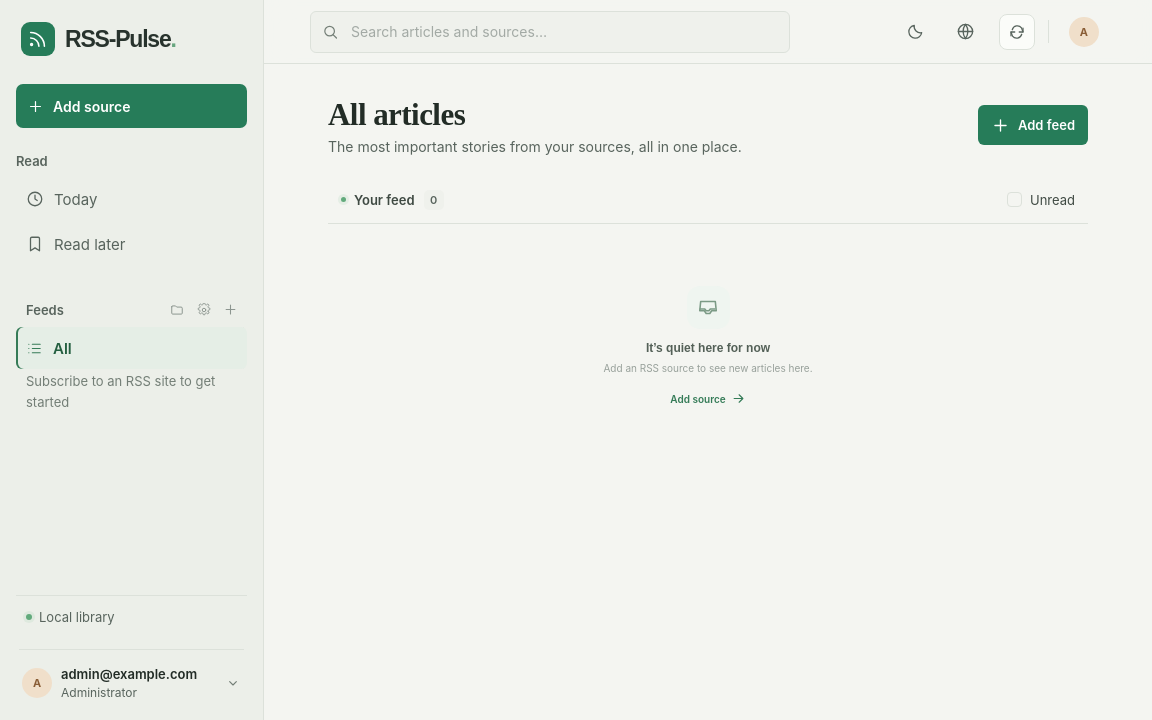
Scenario: session-aware reader shell › shows the administration destination to Administrators only
Click the heading "A admin@example.com Administrator". click: (132, 683)
box: [19,660,244,706]
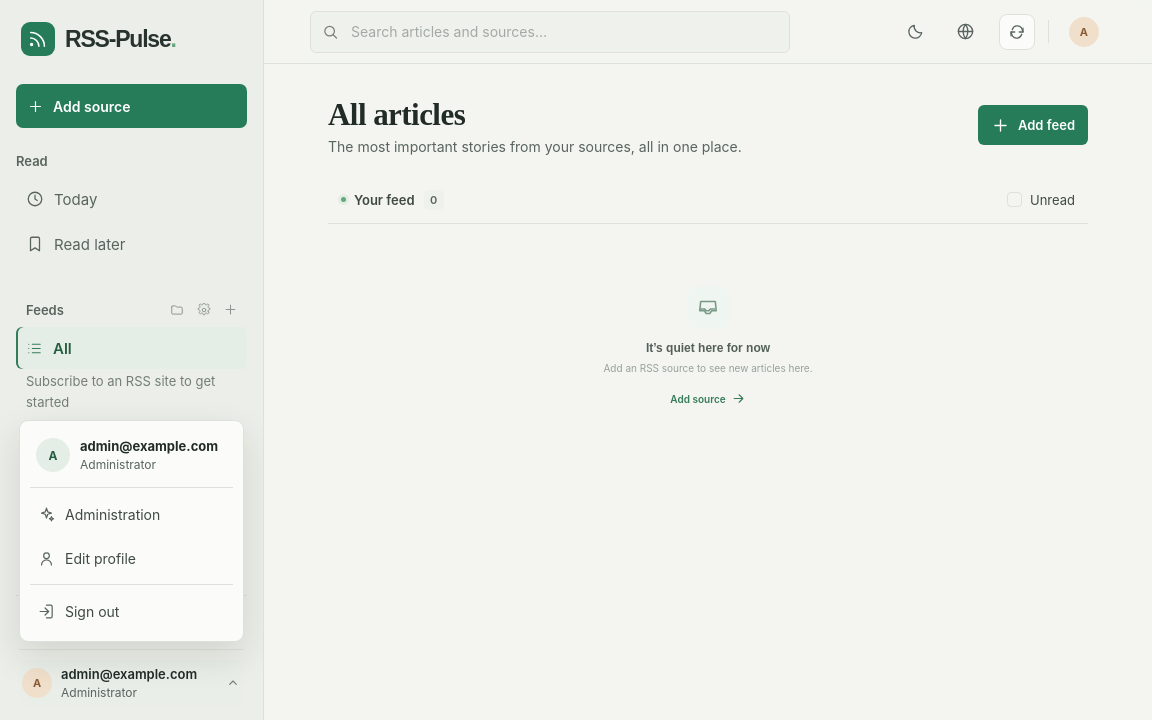
Click the button "Administration". click: (132, 514)
box: [28,492,235,536]
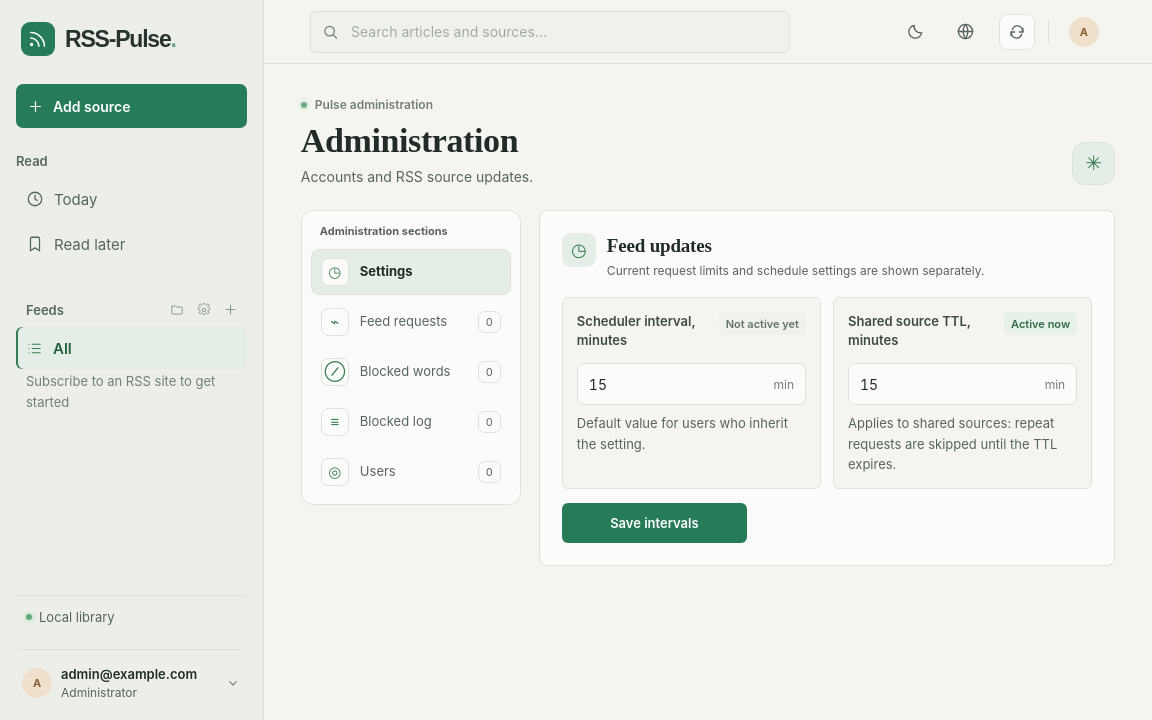
Expected: the heading "Administration" is shown, [301,121,533,162]
